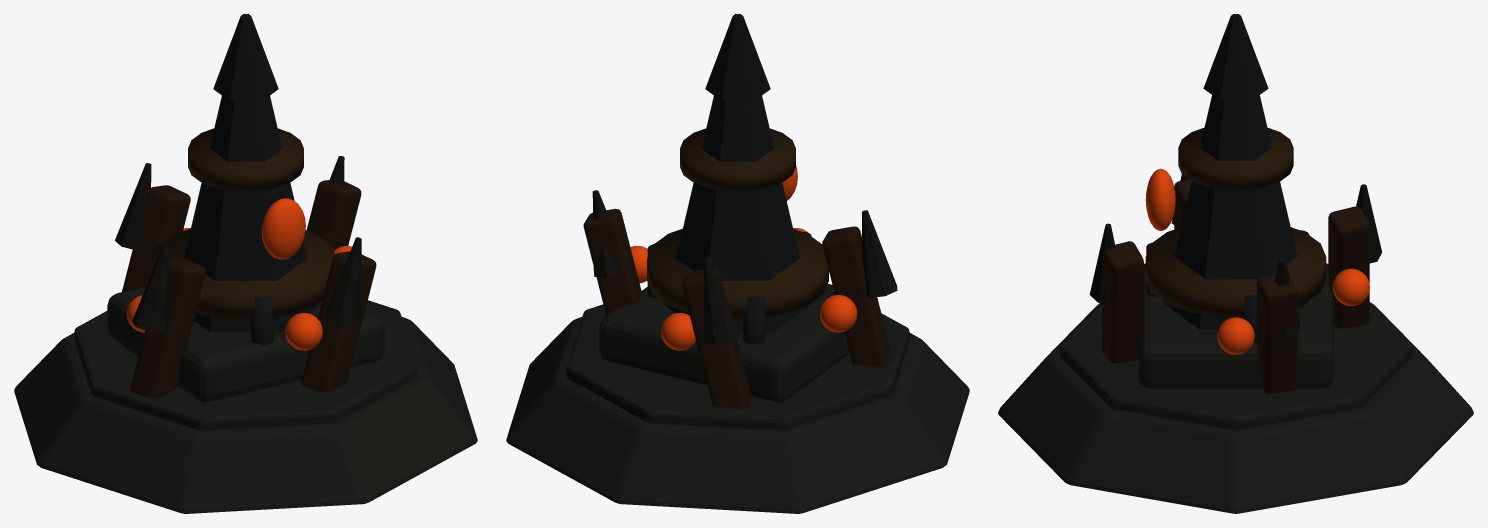
Rendered from TowerCorrupt3_pose.obj.
The picture shows the model from 3 angles, left to right: view 1: azimuth 30°, elevation 25°; view 2: azimuth 150°, elevation 25°; view 3: azimuth 270°, elevation 25°; orthographic projection.
Visible parts, largest first — view 1: weathered_stone_dais_lower_course, weathered_stone_dais_upper_course, dark_obelisk_core, blackstone_foot, bronze_binding_ring, oak_ritual_brace.002, oak_ritual_brace.003, bronze_upper_ring, apex_ward_crown, oak_ritual_brace.001, oak_ritual_brace, amber_runic_heart (+5 smaller); view 2: weathered_stone_dais_lower_course, weathered_stone_dais_upper_course, dark_obelisk_core, blackstone_foot, bronze_binding_ring, oak_ritual_brace.002, bronze_upper_ring, oak_ritual_brace.001, oak_ritual_brace, apex_ward_crown, bone_ward_spike.001, bone_ward_spike.002 (+4 smaller); view 3: weathered_stone_dais_lower_course, weathered_stone_dais_upper_course, dark_obelisk_core, blackstone_foot, bronze_binding_ring, oak_ritual_brace.003, oak_ritual_brace, bronze_upper_ring, oak_ritual_brace.001, apex_ward_crown, amber_runic_heart, bound_amber_pebble (+5 smaller).
Part boxes in pixels (x1,y1,x2,y2): weathered_stone_dais_lower_course: (14, 317, 477, 513); weathered_stone_dais_upper_course: (74, 300, 417, 430); dark_obelisk_core: (184, 96, 318, 331); blackstone_foot: (107, 286, 384, 402); bronze_binding_ring: (155, 228, 334, 318); oak_ritual_brace.002: (130, 257, 205, 398); oak_ritual_brace.003: (301, 251, 376, 392); bronze_upper_ring: (188, 128, 303, 190); apex_ward_crown: (213, 14, 278, 100); oak_ritual_brace.001: (122, 185, 190, 291); oak_ritual_brace: (306, 180, 361, 250); amber_runic_heart: (261, 198, 305, 259); weathered_stone_dais_lower_course: (506, 317, 969, 513); weathered_stone_dais_upper_course: (566, 304, 909, 430); dark_obelisk_core: (665, 96, 810, 331); blackstone_foot: (599, 284, 849, 402); bronze_binding_ring: (647, 228, 828, 318); oak_ritual_brace.002: (822, 226, 891, 367); bronze_upper_ring: (680, 128, 795, 190); oak_ritual_brace.001: (682, 268, 751, 408); oak_ritual_brace: (583, 208, 642, 316); apex_ward_crown: (705, 14, 770, 100); bone_ward_spike.001: (703, 257, 740, 344); bone_ward_spike.002: (862, 210, 897, 297); weathered_stone_dais_lower_course: (998, 302, 1473, 513); weathered_stone_dais_upper_course: (1059, 303, 1412, 429); dark_obelisk_core: (1163, 95, 1308, 329); blackstone_foot: (1138, 263, 1333, 388); bronze_binding_ring: (1145, 227, 1326, 316); oak_ritual_brace.003: (1102, 241, 1143, 363); oak_ritual_brace: (1256, 273, 1297, 393); bronze_upper_ring: (1178, 128, 1293, 189); oak_ritual_brace.001: (1328, 206, 1369, 328); apex_ward_crown: (1203, 14, 1268, 100); amber_runic_heart: (1145, 168, 1175, 230); bound_amber_pebble: (1217, 317, 1254, 354).
Bounding box in the file's own units: 1.9 × 1.75 × 1.9.
